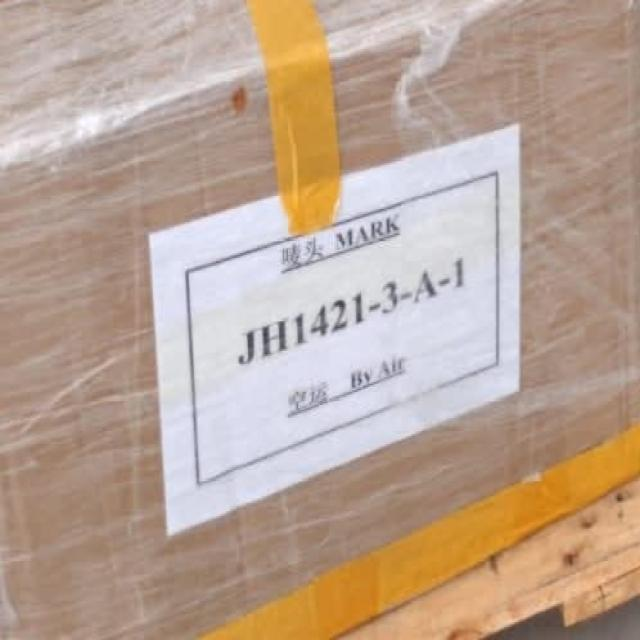carton_box: (0, 1, 614, 573)
export_mark_label: (139, 212, 566, 474)
